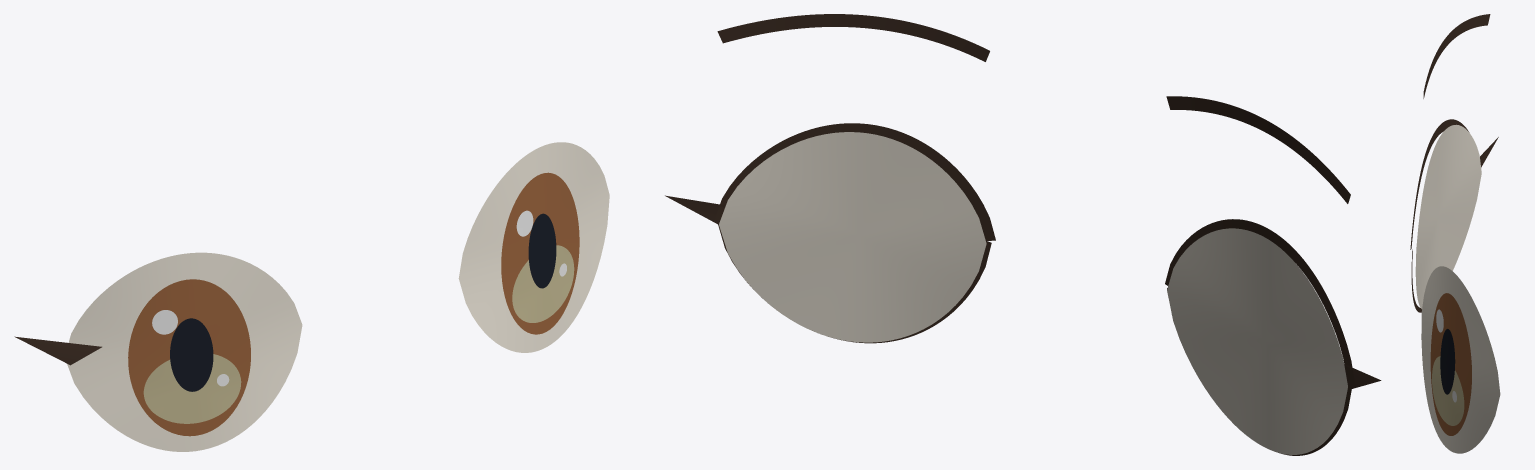
3 renders of one model, left to right at view 1: azimuth 30°, elevation 25°; view 2: azimuth 150°, elevation 25°; view 3: azimuth 270°, elevation 25°, orthographic. The views are drawn at different scales.
Visible parts, largest first — view 1: Eye_White_-1, Eye_White_1, Eye_Iris_-1, Eye_Iris_1, Eye_Iris_Light_-1, Eye_Iris_Light_1, Eye_Pupil_-1, Eye_Pupil_1, Eye_LashWing_-1; view 2: Eye_White_1, Eye_White_-1, Eyebrow_1, Eye_UpperLid_1, Eye_UpperLid_-1, Eyebrow_-1, Eye_LowerLid_1; view 3: Eye_White_-1, Eye_White_1, Eye_Iris_1, Eye_Iris_Light_1, Eye_Pupil_1, Eyebrow_-1, Eye_UpperLid_-1, Eye_Glint_1_0, Eye_LowerLid_-1, Eye_LashWing_-1.
Boxes of the visible parts, x1,y1,x2,y2 form: Eye_White_-1: [67, 252, 302, 451]; Eye_White_1: [458, 142, 609, 352]; Eye_Iris_-1: [128, 279, 250, 436]; Eye_Iris_1: [501, 172, 579, 334]; Eye_Iris_Light_-1: [143, 354, 241, 423]; Eye_Iris_Light_1: [512, 245, 574, 322]; Eye_Pupil_-1: [170, 318, 213, 391]; Eye_Pupil_1: [528, 213, 556, 288]; Eye_LashWing_-1: [14, 336, 101, 365]; Eye_White_1: [719, 132, 986, 342]; Eye_White_-1: [1167, 228, 1347, 454]; Eyebrow_1: [717, 14, 989, 61]; Eye_UpperLid_1: [714, 123, 995, 240]; Eye_UpperLid_-1: [1165, 219, 1355, 385]; Eyebrow_-1: [1166, 96, 1350, 203]; Eye_LowerLid_1: [717, 223, 991, 343]; Eye_White_-1: [1415, 124, 1481, 308]; Eye_White_1: [1421, 266, 1500, 453]; Eye_Iris_1: [1430, 293, 1471, 435]; Eye_Iris_Light_1: [1432, 356, 1464, 425]; Eye_Pupil_1: [1440, 329, 1455, 394]; Eyebrow_-1: [1423, 14, 1490, 98]; Eye_UpperLid_-1: [1410, 119, 1469, 249]; Eye_Glint_1_0: [1436, 309, 1443, 332]; Eye_LowerLid_-1: [1411, 249, 1421, 312]; Eye_LashWing_-1: [1480, 137, 1498, 167].
Size of the model in its own units: 0.4216 by 0.2015 by 0.0725.
